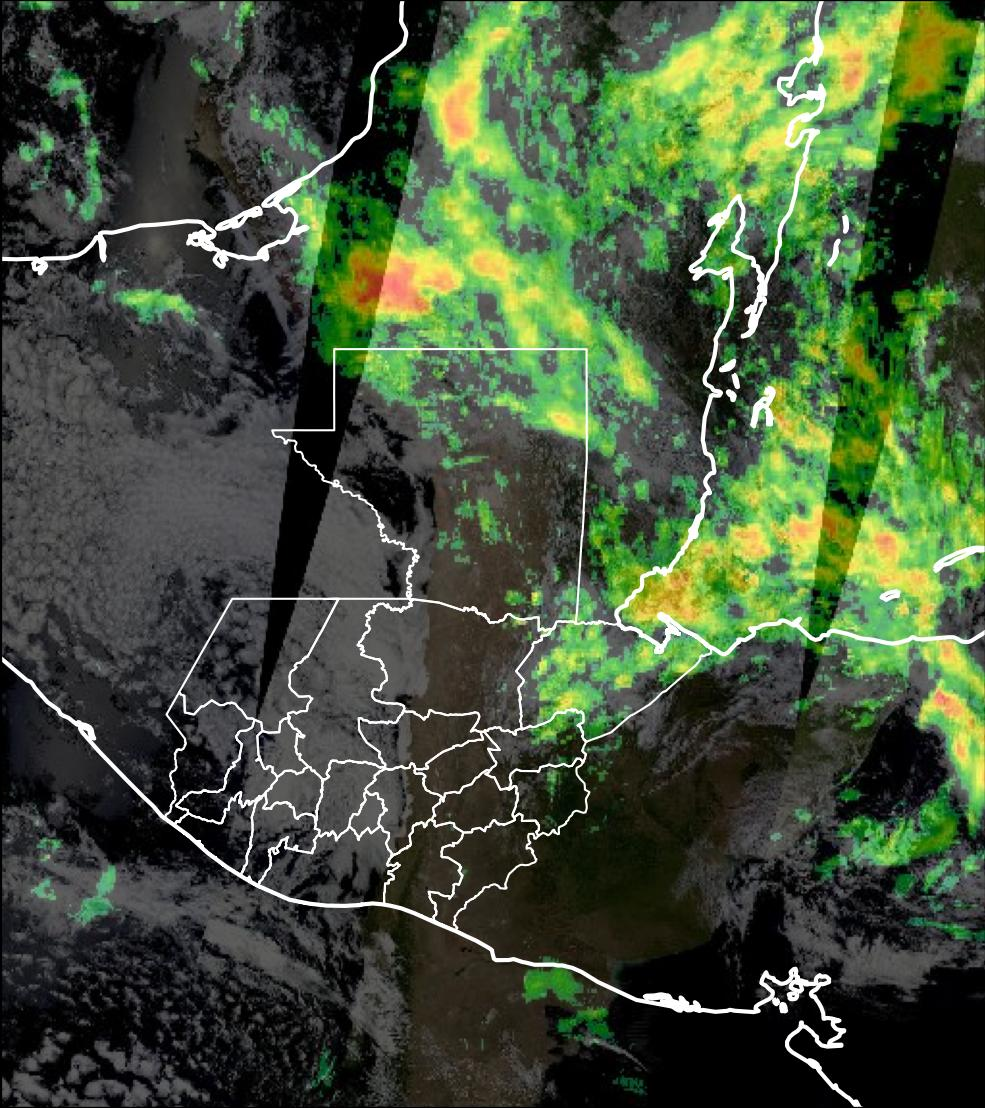precipitacion: (341, 236, 457, 322), (429, 66, 508, 165), (833, 36, 884, 114)
